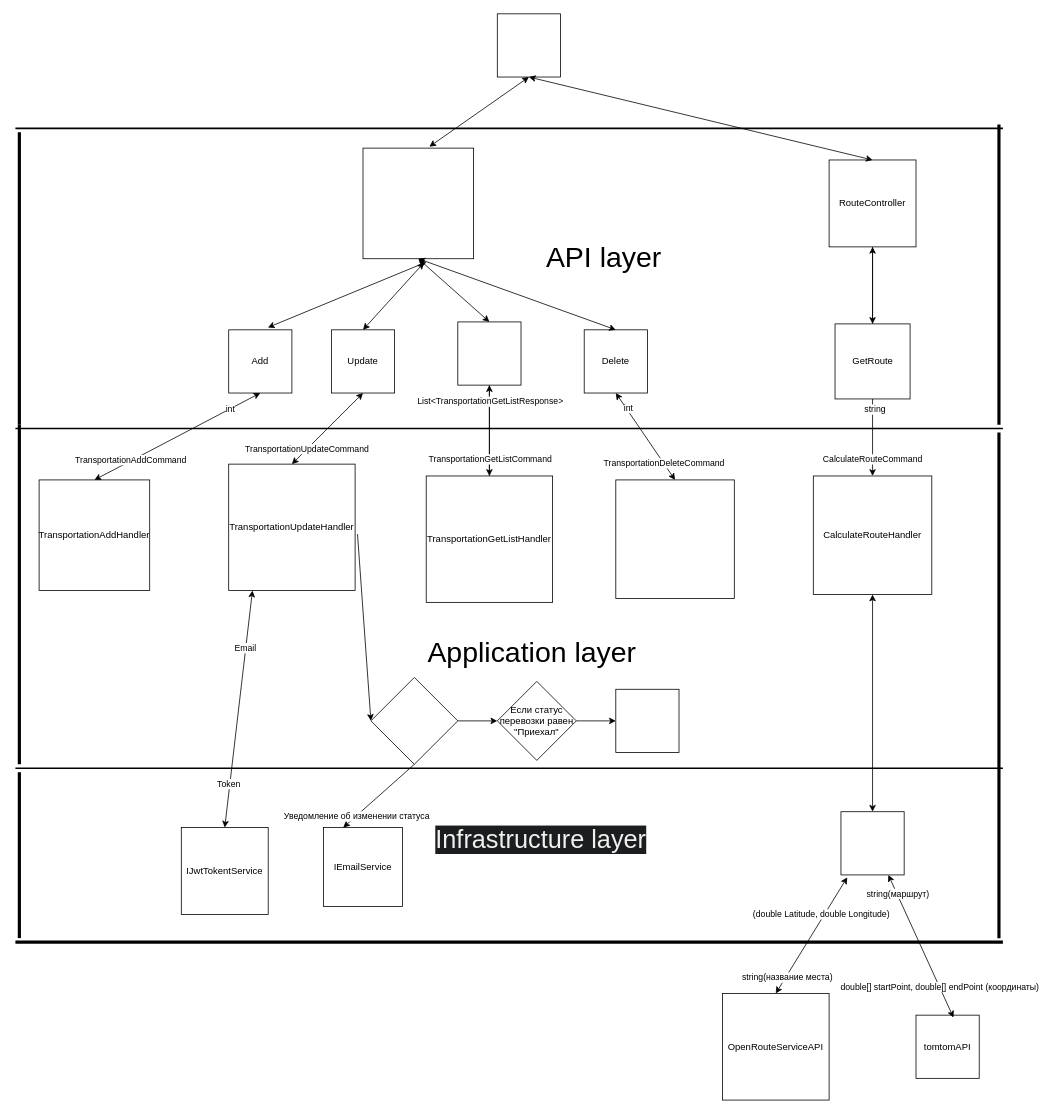
Some shapes in this 1052 by 1114 pixel diagram are drawn without their labels. Here are the shapes that lost their labels. From the top down, the box of each, then its label:
(497, 13, 561, 77): UI
(362, 147, 474, 259): TransportationController
(457, 321, 521, 385): Read
(615, 479, 734, 598): TransportationDeleteHandler
(370, 677, 458, 764): Если статус перевозки изменился
(615, 688, 679, 752): Добавление invoice
(840, 811, 904, 875): IRouteService
